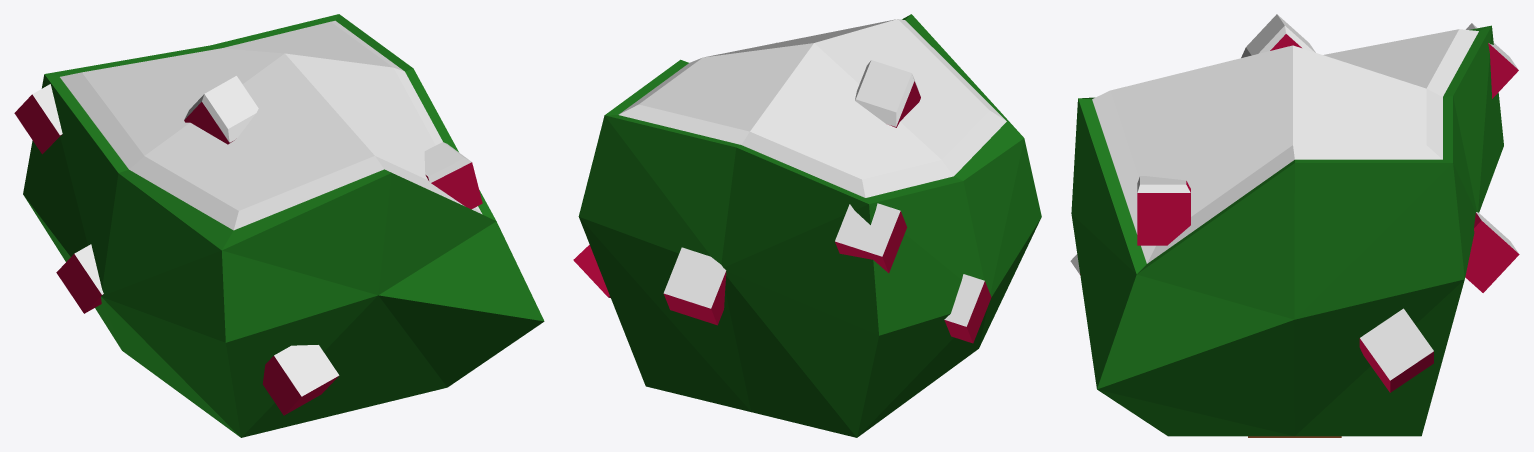
File: berryBushFixedNormal.fbx
The picture shows the model from 3 angles, left to right: view 1: azimuth 30°, elevation 25°; view 2: azimuth 150°, elevation 25°; view 3: azimuth 270°, elevation 25°; orthographic projection. The views are drawn at different scales.
Parts seen in each view (by area): view 1: Cube, Cube.003, Cube.007, Cube.002, Cube.006, Cube.004; view 2: Cube, Cube.005, Cube.006, Cube.007, Cube.004, Cube.001; view 3: Cube, Cube.001, Cube.002, Cube.005, Cube.007, Cube.006.
Boxes of the visible parts, left/top/right/bottom form: Cube: left=23, top=14, right=544, bottom=437; Cube.003: left=262, top=345, right=339, bottom=415; Cube.007: left=184, top=76, right=258, bottom=144; Cube.002: left=424, top=142, right=482, bottom=209; Cube.006: left=14, top=84, right=62, bottom=154; Cube.004: left=56, top=244, right=103, bottom=313; Cube: left=578, top=14, right=1041, bottom=437; Cube.005: left=663, top=247, right=726, bottom=325; Cube.006: left=835, top=203, right=907, bottom=273; Cube.007: left=855, top=60, right=920, bottom=127; Cube.004: left=944, top=274, right=991, bottom=343; Cube.001: left=573, top=245, right=610, bottom=297; Cube: left=1071, top=25, right=1503, bottom=436; Cube.001: left=1359, top=308, right=1433, bottom=392; Cube.002: left=1137, top=176, right=1190, bottom=245; Cube.005: left=1465, top=212, right=1519, bottom=292; Cube.007: left=1241, top=14, right=1315, bottom=57; Cube.006: left=1466, top=23, right=1518, bottom=98.
Size of the model in its own units: 817 by 732 by 800.
